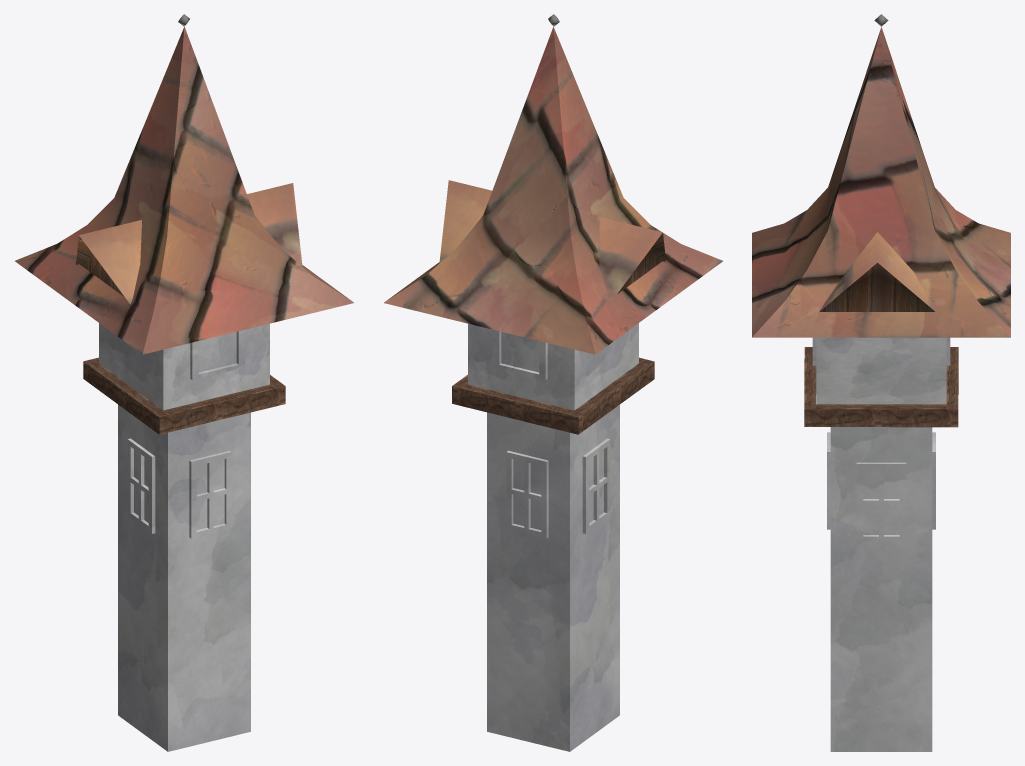
File: tower2.fbx
The picture shows the model from 3 angles, left to right: view 1: azimuth 30°, elevation 25°; view 2: azimuth 150°, elevation 25°; view 3: azimuth 270°, elevation 25°; orthographic projection.
Parts seen in each view (by area): view 1: Box001, wood003, wood002; view 2: Box001, wood001, wood002; view 3: Box001, wood004, wood003, wood001.
Part boxes in pixels (left/top/right/bottom): Box001: left=15, top=14, right=353, bottom=751; wood003: left=154, top=382, right=285, bottom=434; wood002: left=83, top=359, right=168, bottom=434; Box001: left=384, top=14, right=722, bottom=751; wood001: left=452, top=382, right=584, bottom=434; wood002: left=569, top=359, right=654, bottom=434; Box001: left=752, top=14, right=1010, bottom=751; wood004: left=805, top=404, right=958, bottom=427; wood003: left=804, top=347, right=816, bottom=426; wood001: left=946, top=347, right=958, bottom=408.
Size of the model in its own units: 142 by 449 by 147.
